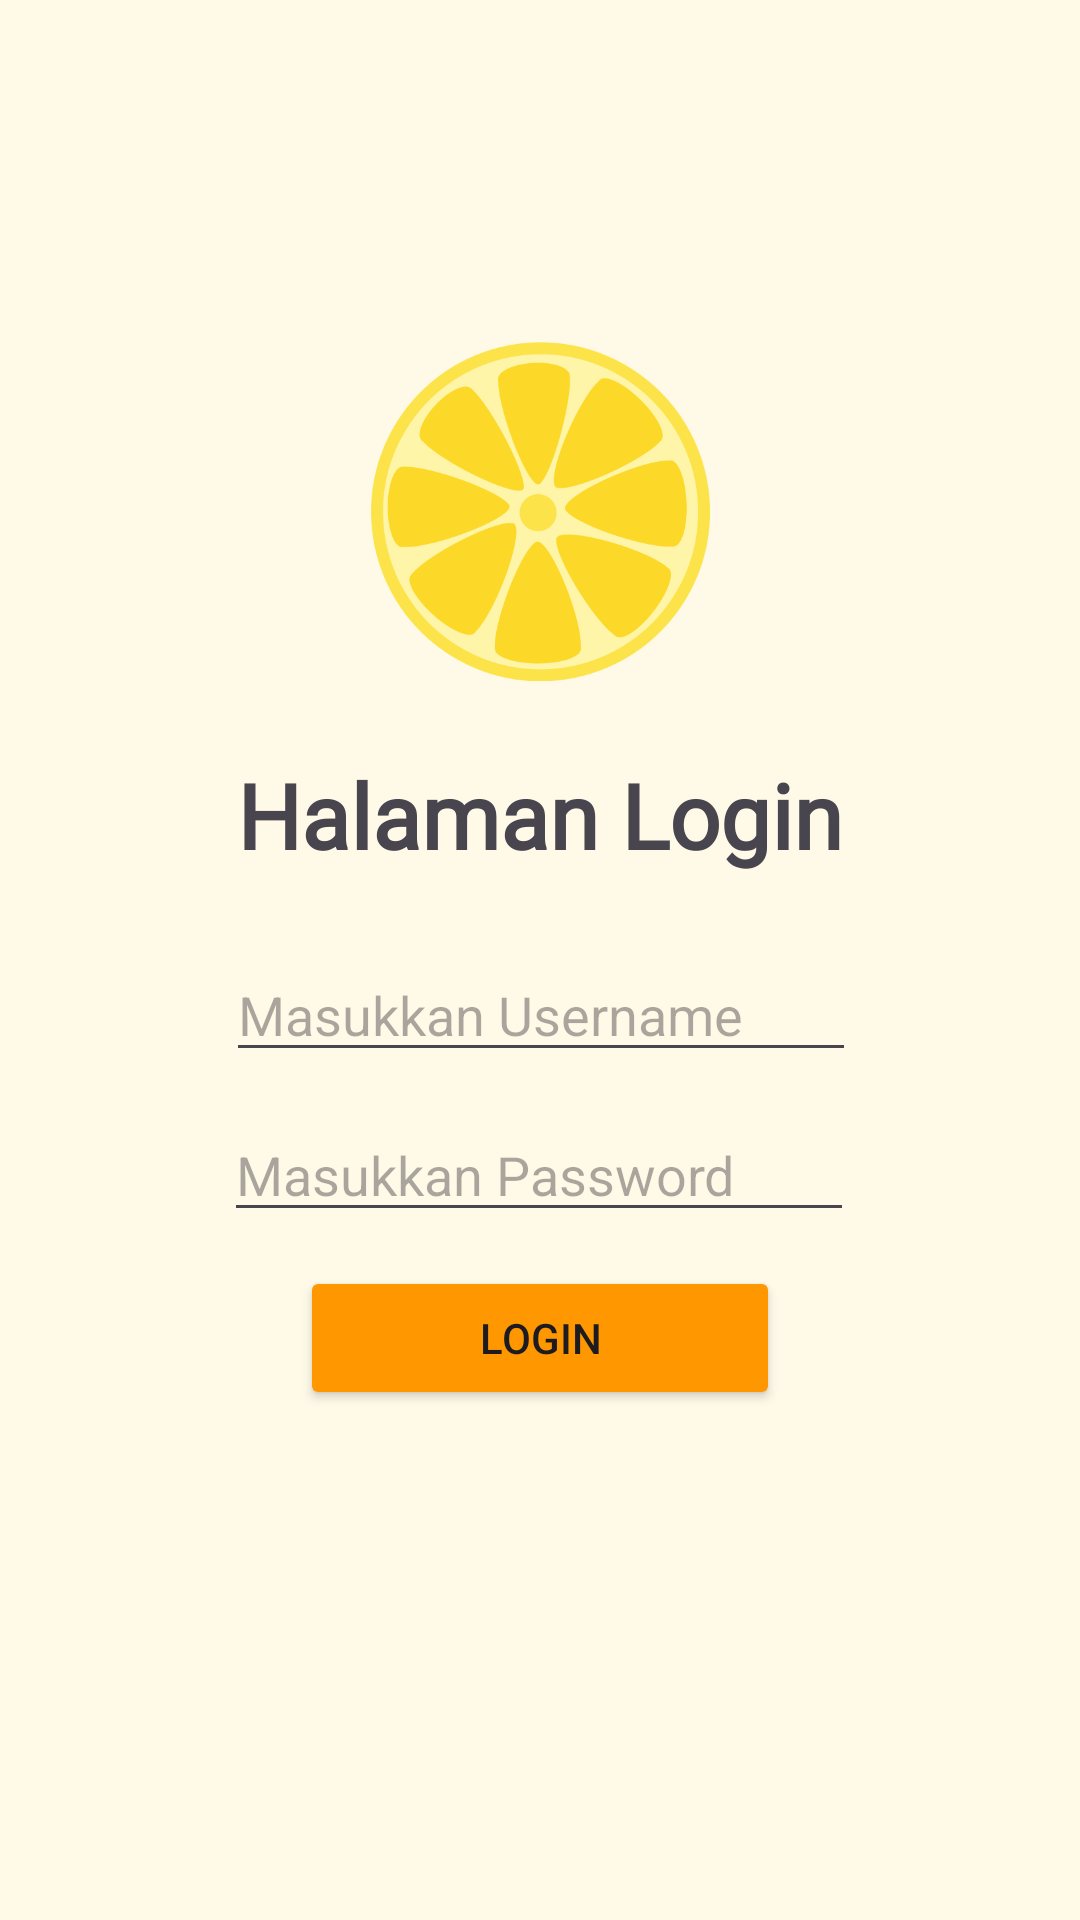

Screen size 1080x1920. Icon name, then its center in pixels as (x,y):
fruit: (540,511)
